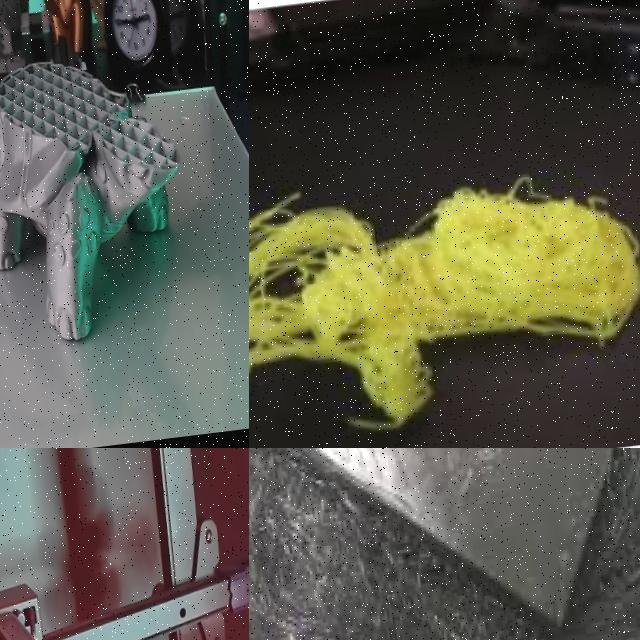spaghetti: (249, 176, 640, 431), (249, 448, 640, 640)
